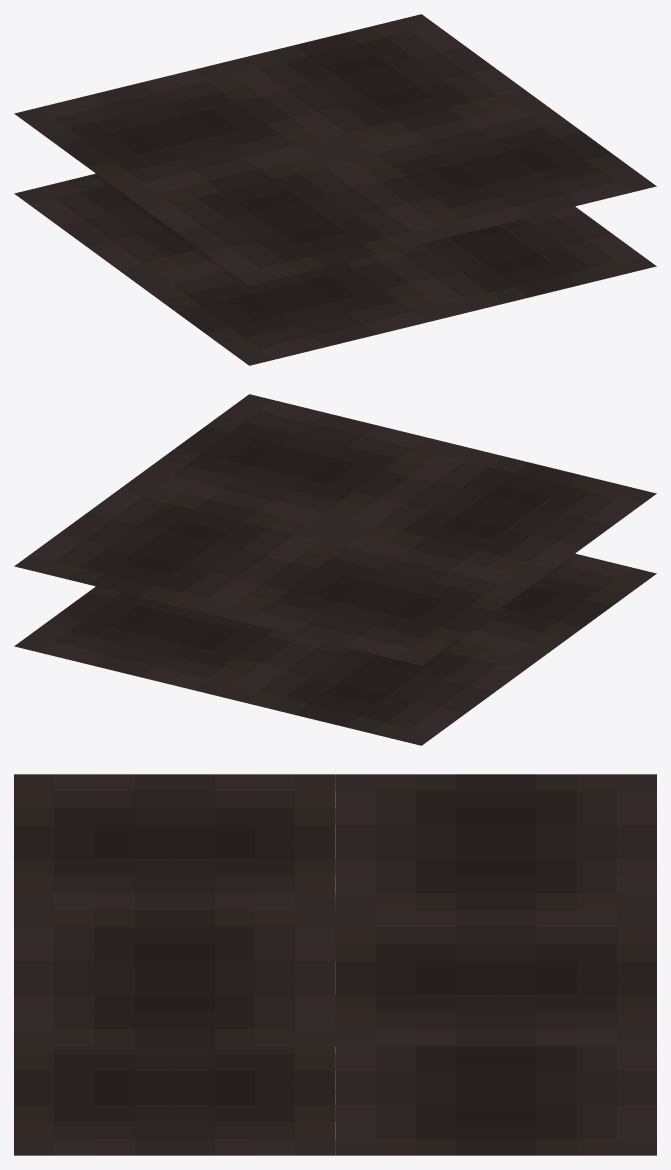
Rendered from table_center.obj.
The picture shows the model from 3 angles, top to bottom: view 1: azimuth 30°, elevation 25°; view 2: azimuth 150°, elevation 25°; view 3: azimuth 270°, elevation 25°; orthographic projection. The views are drawn at different scales.
Visible parts, largest first — view 1: CENTER_TABLE_TOP_Cube.013; view 2: CENTER_TABLE_TOP_Cube.013; view 3: CENTER_TABLE_TOP_Cube.013.
Boxes of the visible parts, x1=… form: CENTER_TABLE_TOP_Cube.013: x1=14, y1=14, x2=656, y2=365; CENTER_TABLE_TOP_Cube.013: x1=14, y1=394, x2=656, y2=745; CENTER_TABLE_TOP_Cube.013: x1=14, y1=774, x2=656, y2=1155.
Bounding box in the file's own units: 1 × 0.1875 × 1.
